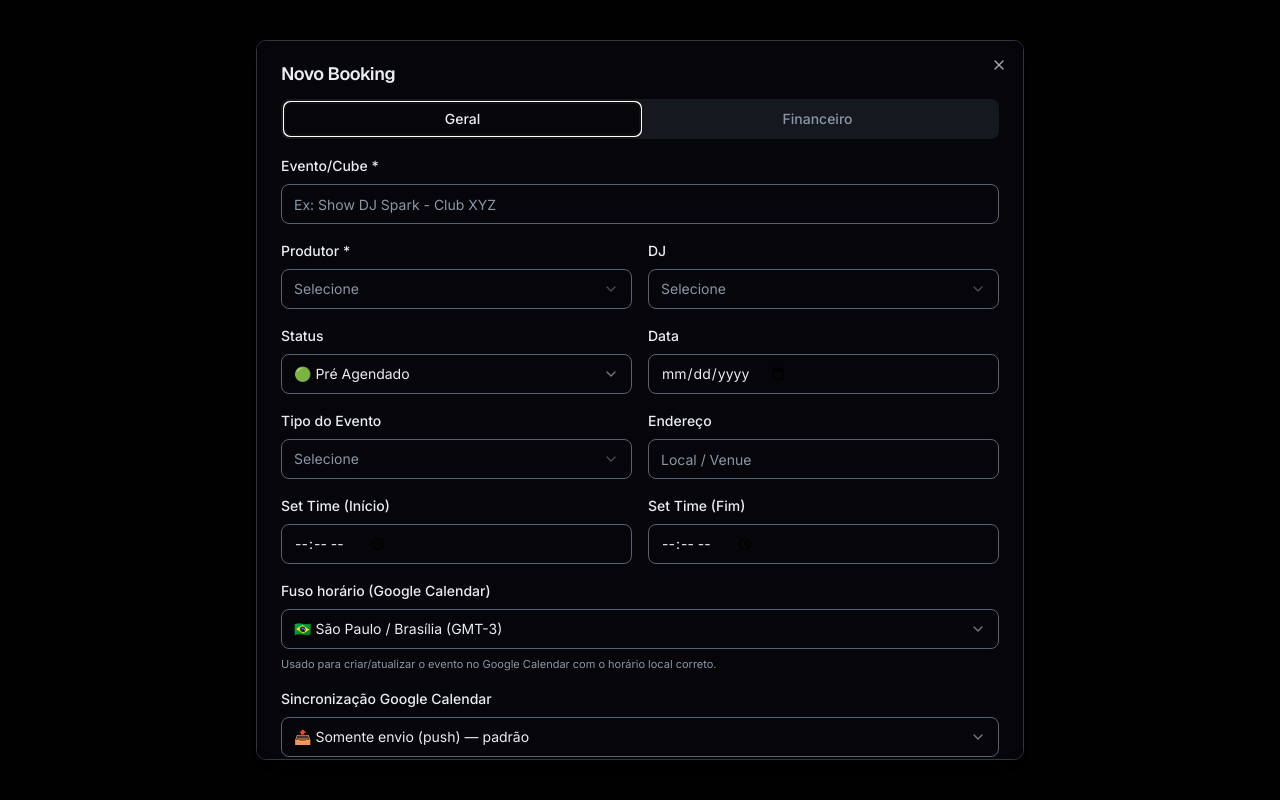
Scenario: BookingForm — validação cruzada de datas financeiras › bloqueia quando pagamento restante é antes do sinal
Step 1. Type "Show Inválido" into the field labelled "Evento/Cube *" → (640, 204), box [281,184,999,224]
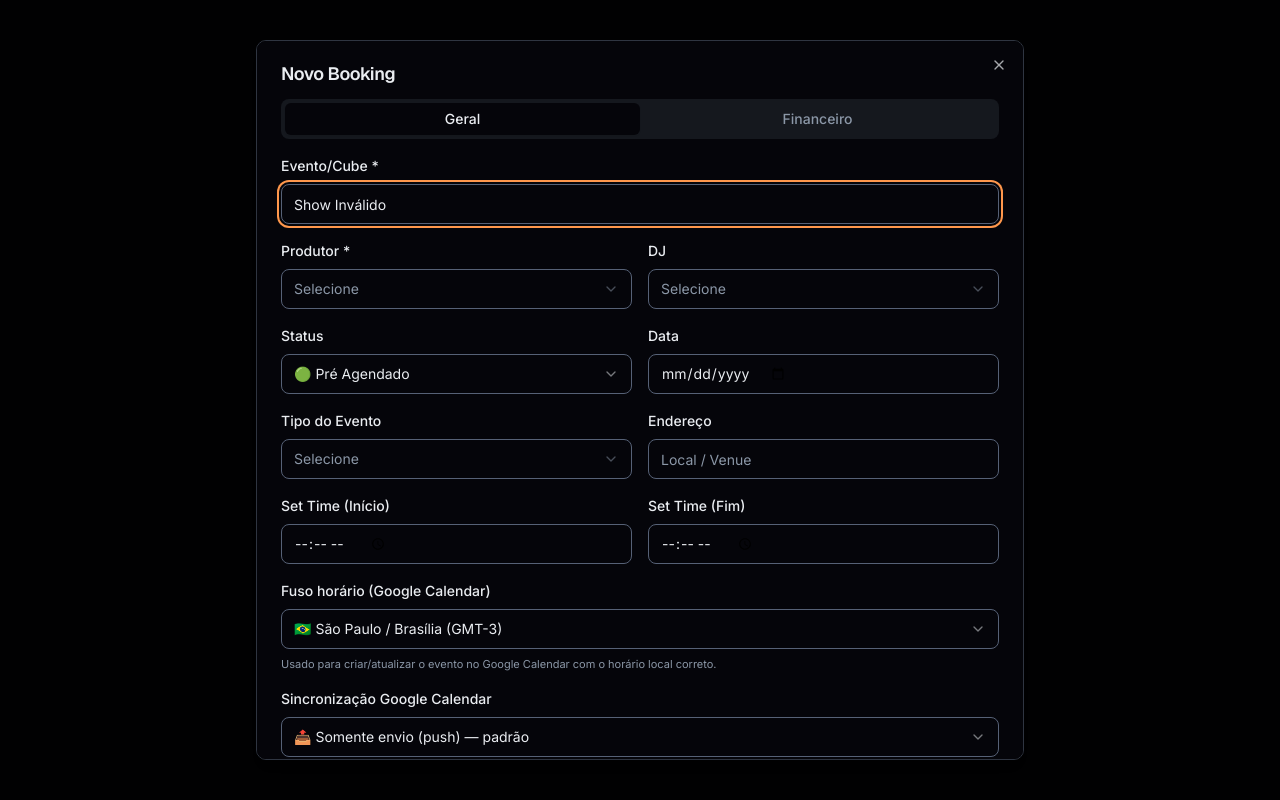
Step 2. Click the dropdown labelled "Selecione" below "Produtor *" → (326, 288), box [281,269,632,309]
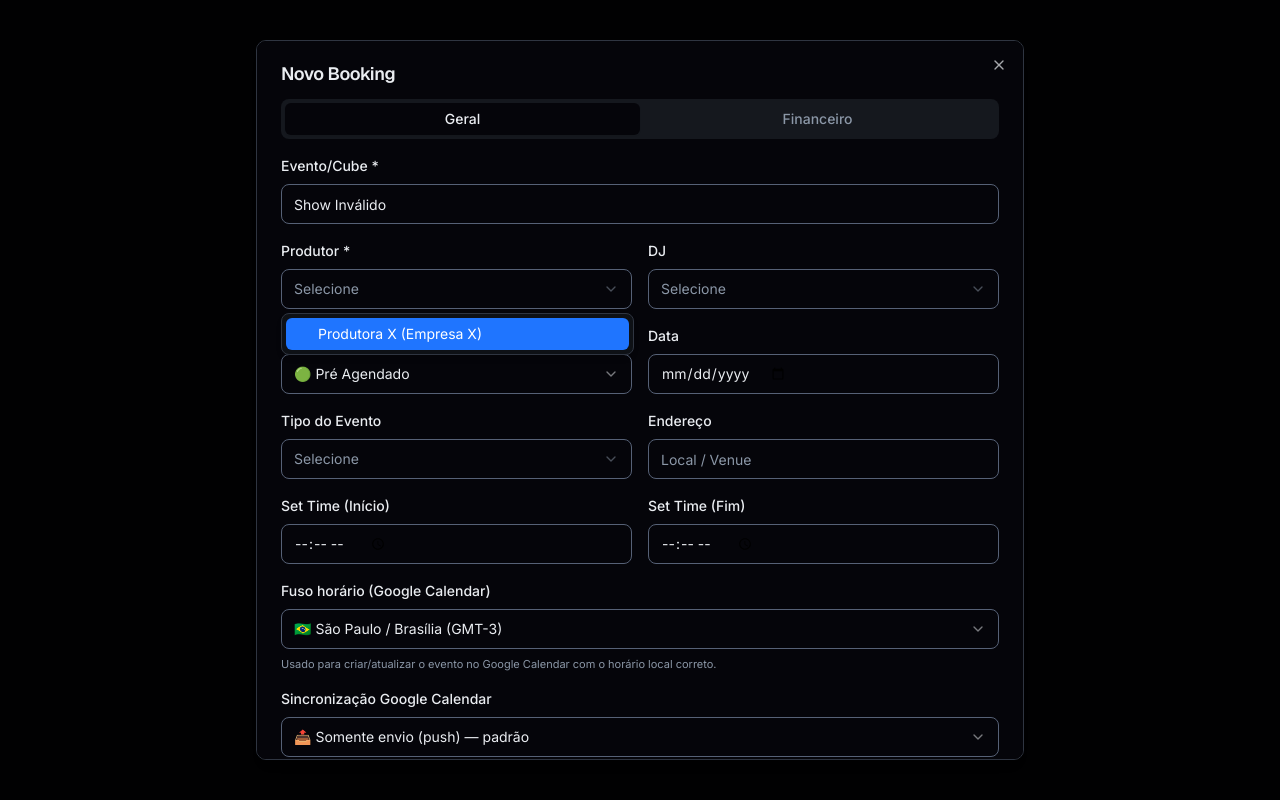
Step 3. Click the option "Produtora X (Empresa X)" → (458, 334), box [286,318,629,350]
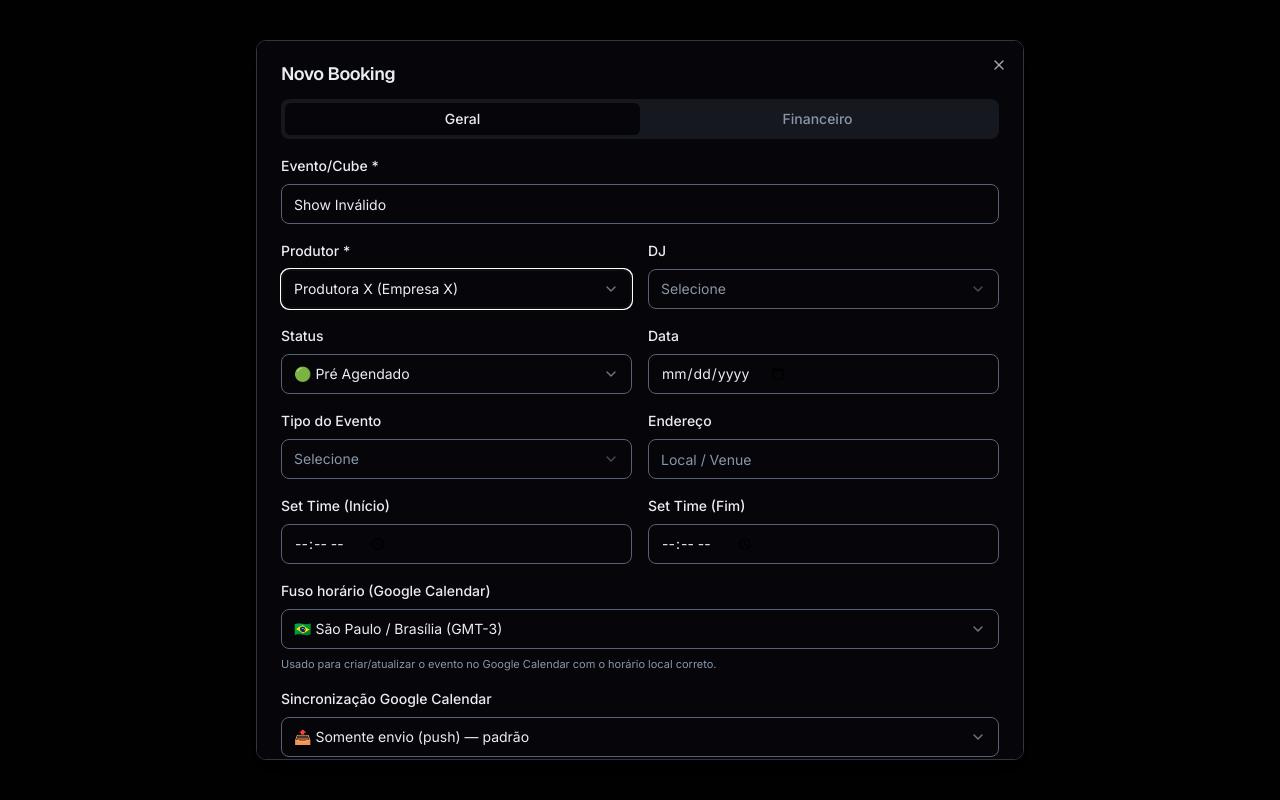
Step 4. Click the tab "Financeiro" → (818, 119), box [640,103,995,135]
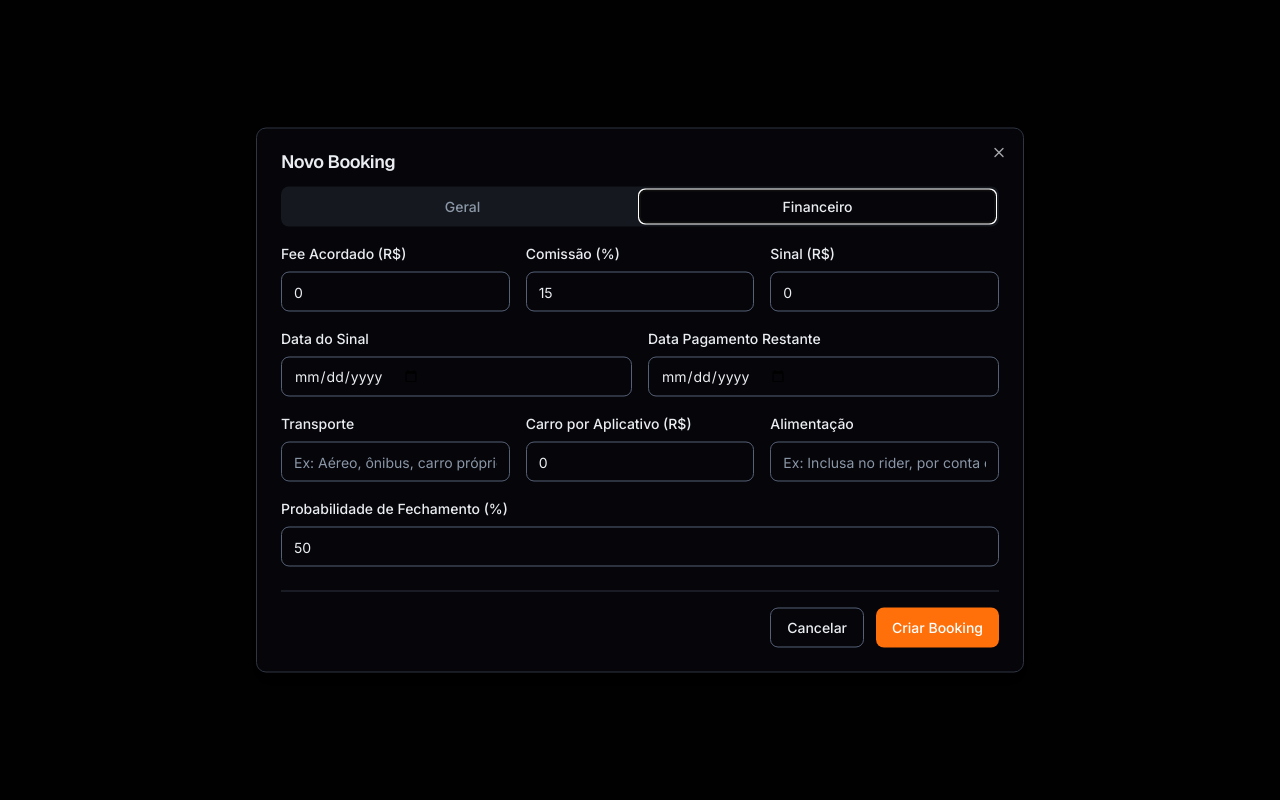
Step 5. Type "2026-06-10" into the date field labelled "Data do Sinal" → (456, 376), box [281,356,632,396]
Step 6. Type "2026-06-05" into the date field labelled "Data Pagamento Restante" → (824, 376), box [648,356,999,396]
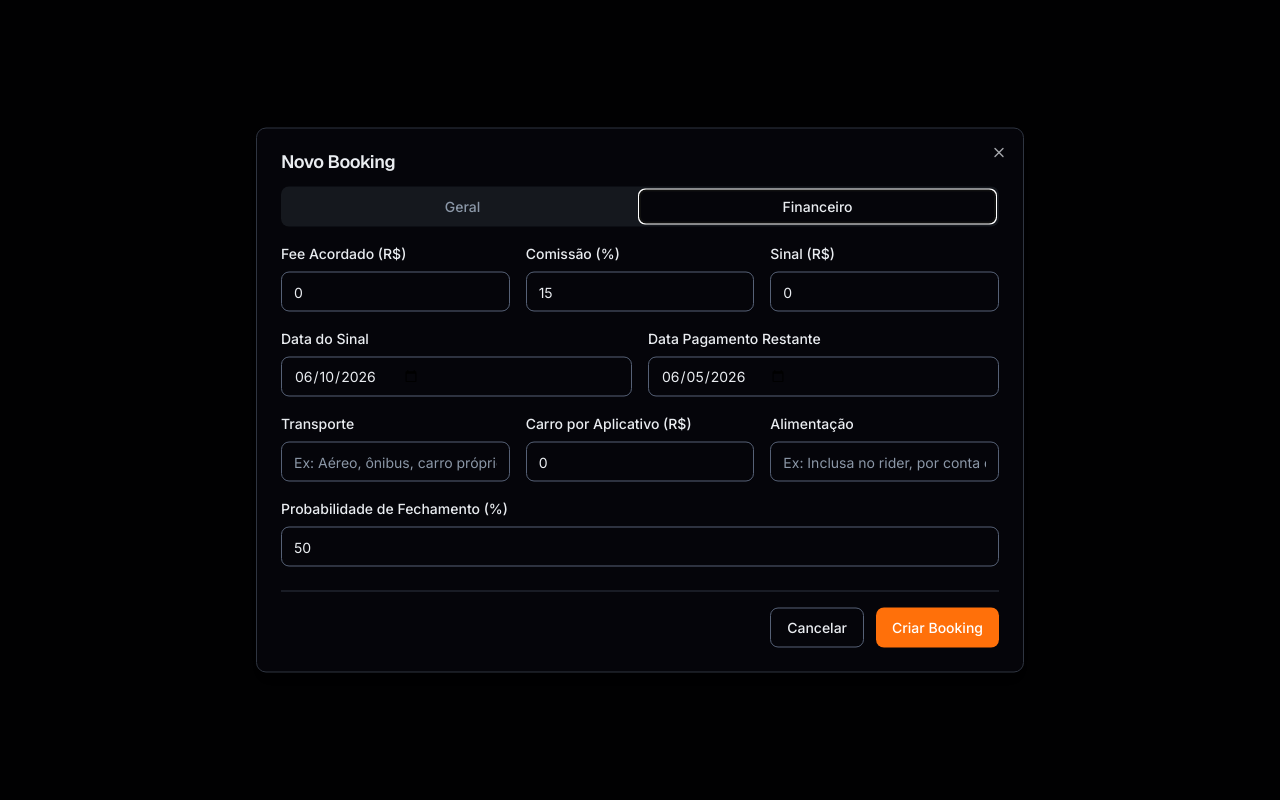
Step 7. Click the button "Criar Booking" → (938, 628), box [876,608,999,648]
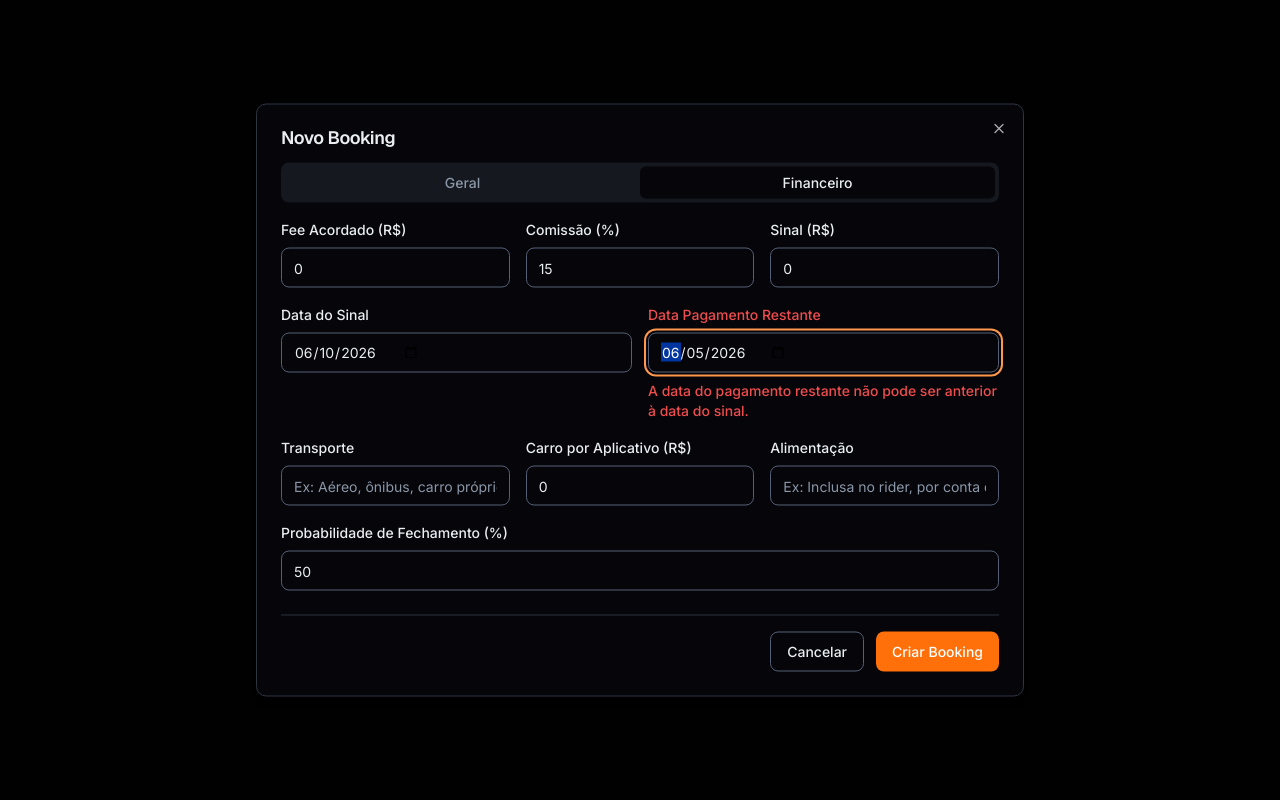
expect the text "pagamento restante não pode ser anterior à data do sinal" is shown: met, box [648,382,997,418]
